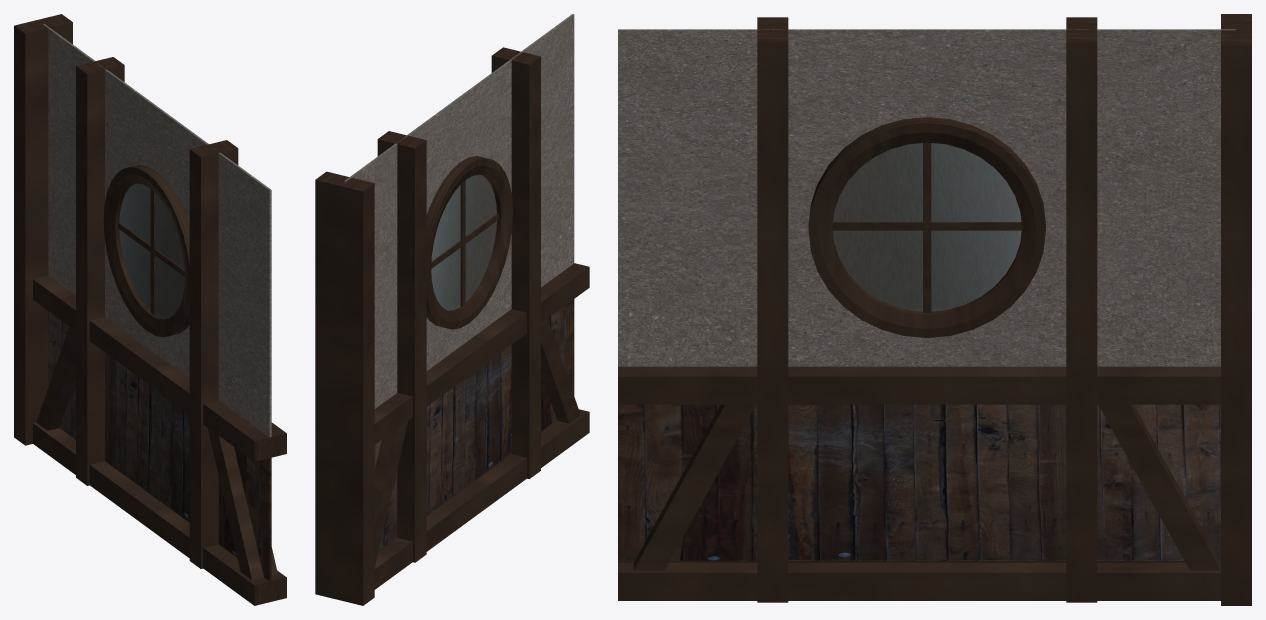
Rendered from OutdoorArchitecture_BasicWall01_Window02_RIghtEdge_BShortt.fbx.
3 views of the same model, side by side, from view 1: azimuth 30°, elevation 25°; view 2: azimuth 150°, elevation 25°; view 3: azimuth 270°, elevation 25° (orthographic). The views are drawn at different scales.
Visible parts, largest first — view 1: OutdoorArchitecture_BasicWall01_Window02_RightEdge_BShortt; view 2: OutdoorArchitecture_BasicWall01_Window02_RightEdge_BShortt; view 3: OutdoorArchitecture_BasicWall01_Window02_RightEdge_BShortt.
Boxes of the visible parts, left/top/right/bottom form: OutdoorArchitecture_BasicWall01_Window02_RightEdge_BShortt: left=14, top=14, right=286, bottom=605; OutdoorArchitecture_BasicWall01_Window02_RightEdge_BShortt: left=315, top=14, right=589, bottom=605; OutdoorArchitecture_BasicWall01_Window02_RightEdge_BShortt: left=618, top=14, right=1251, bottom=605.
Bounding box in the file's own units: 36.37 × 300 × 308.
